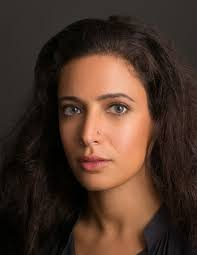middle_eastern_Female: (49, 54, 157, 192)
